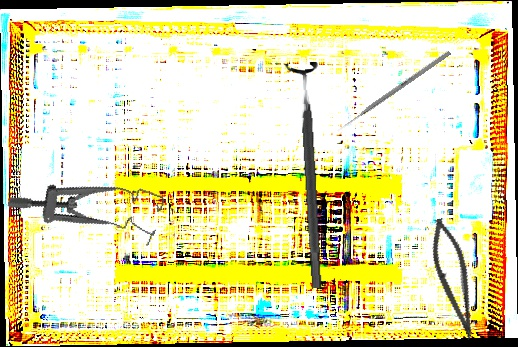Fixation Ring: (282, 61, 336, 290)
Micro Scissor: (420, 215, 490, 343)
Pusher: (335, 50, 452, 133)
Speculum: (6, 146, 168, 260)
